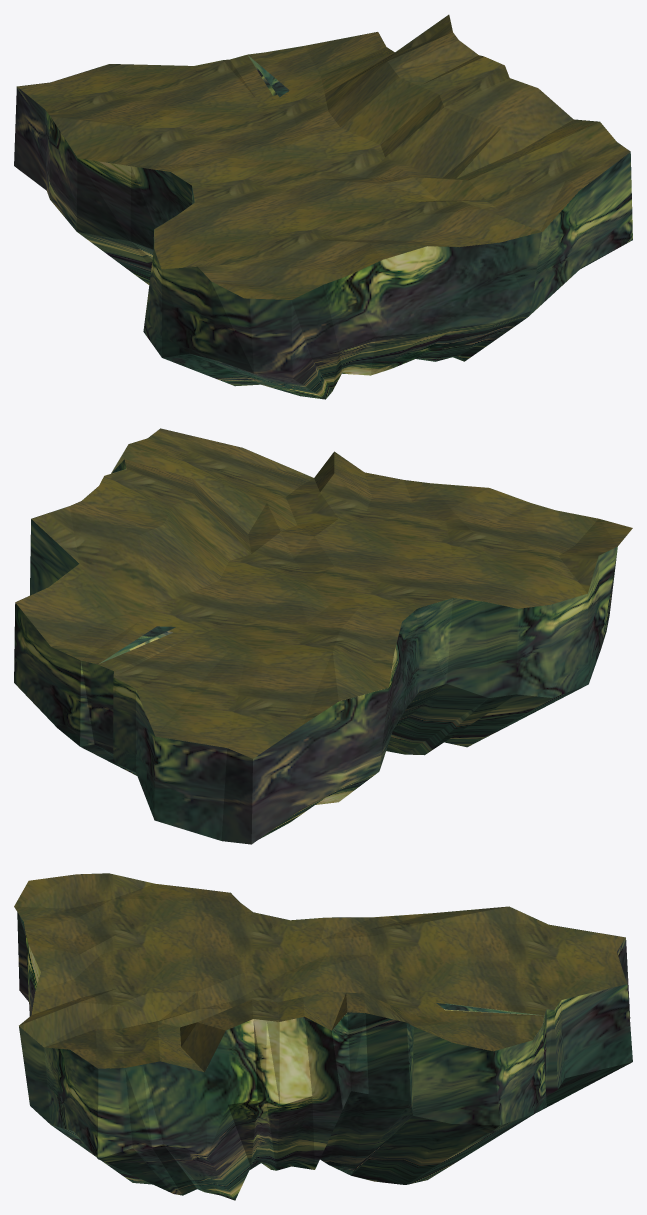
Rendered from MainIsland.gltf.
3 renders of one model, top to bottom at view 1: azimuth 30°, elevation 25°; view 2: azimuth 150°, elevation 25°; view 3: azimuth 270°, elevation 25°, orthographic. The views are drawn at different scales.
Visible parts, largest first — view 1: MainIsland; view 2: MainIsland; view 3: MainIsland.
Boxes of the visible parts, x1,y1,x2,y2 form: MainIsland: [14, 14, 632, 399]; MainIsland: [14, 428, 632, 844]; MainIsland: [14, 873, 632, 1200].
Size of the model in its own units: 324 by 155 by 388.
2 materials, 2 textured.
